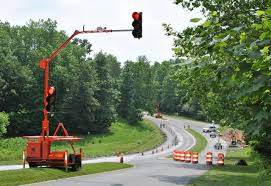signal: (131, 11, 142, 36)
